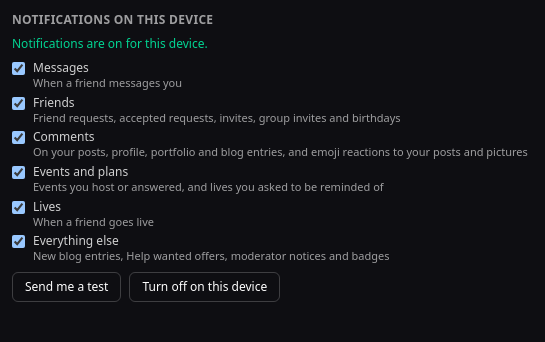
it: PushSettings: once they are on › puts a switch back, and says why, when it couldn't be saved
Expected: the text "Notifications are on for this device." is shown, [12,35,208,52]
Click the checkbox labelled "Messages When a friend messages you". click: (18, 68)
box: [12,62,25,75]
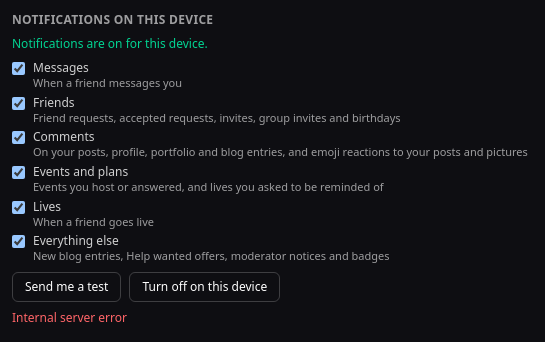
Now the message reads "Internal server error", box [12,309,127,326]
